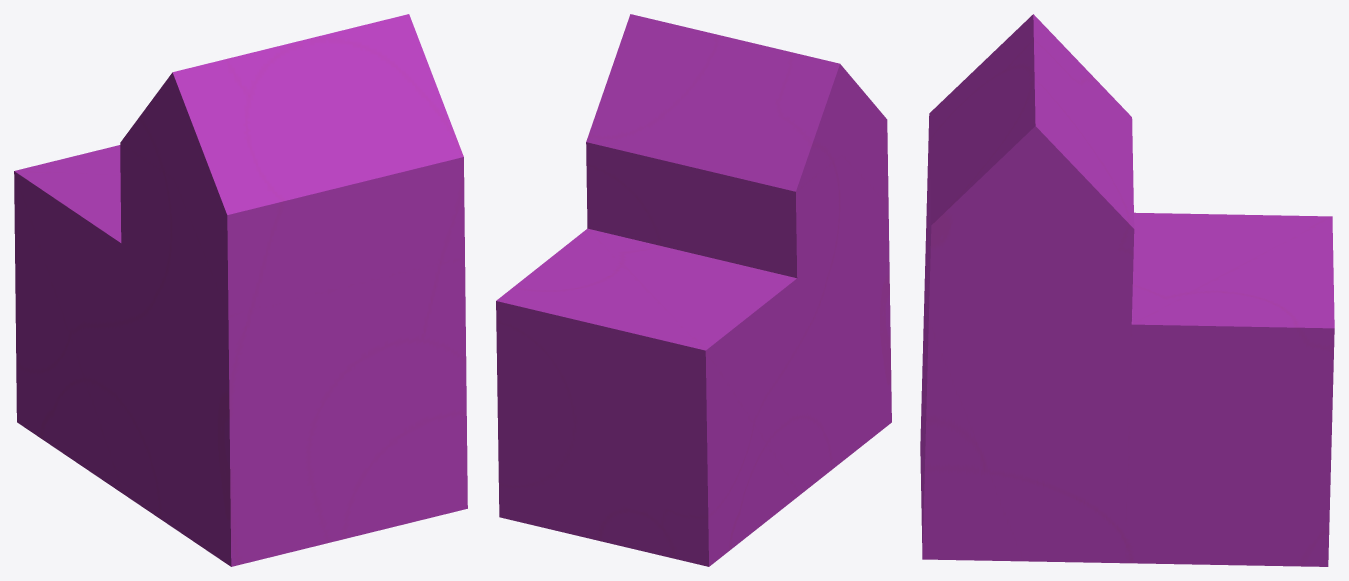
Rendered from City_Purple.fbx.
The picture shows the model from 3 angles, left to right: view 1: azimuth 30°, elevation 25°; view 2: azimuth 150°, elevation 25°; view 3: azimuth 270°, elevation 25°; orthographic projection. The views are drawn at different scales.
Parts seen in each view (by area): view 1: node_id6; view 2: node_id6; view 3: node_id6.
Boxes of the visible parts, x1=… form: node_id6: x1=14, y1=14, x2=467, y2=566; node_id6: x1=496, y1=14, x2=891, y2=566; node_id6: x1=920, y1=14, x2=1334, y2=566.
Bounding box in the file's own units: 0.1279 × 0.2336 × 0.198.
Materials: 1 (1 with a texture image).
